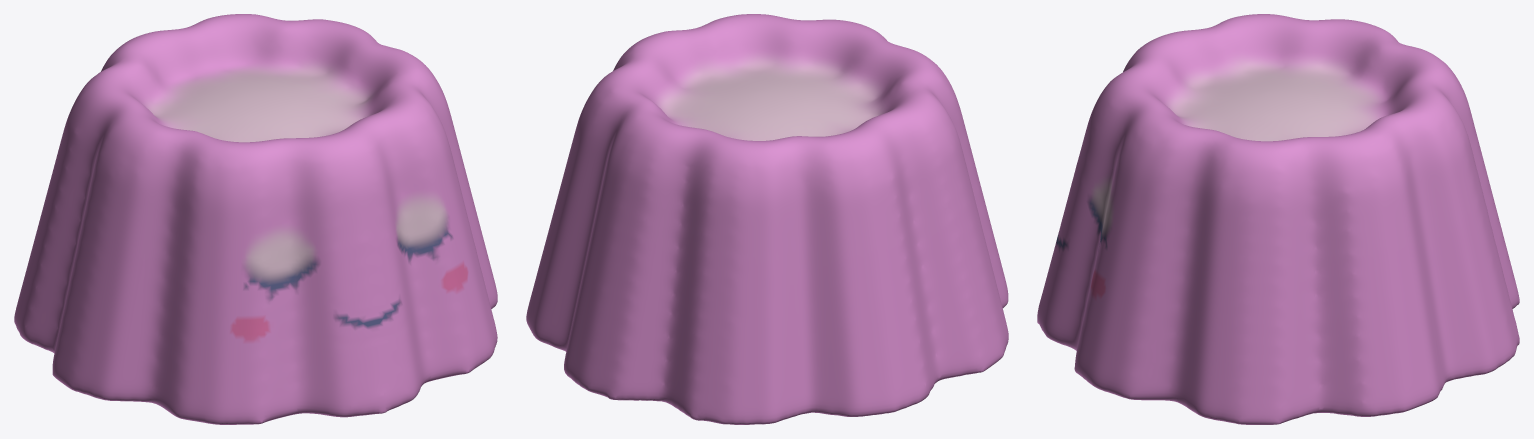
Rendered from Jelly.glb.
3 renders of one model, left to right at view 1: azimuth 30°, elevation 25°; view 2: azimuth 150°, elevation 25°; view 3: azimuth 270°, elevation 25°, orthographic.
Visible parts, largest first — view 1: Jelly; view 2: Jelly; view 3: Jelly.
Part boxes in pixels (x1,y1,x2,y2): Jelly: (14,14,497,424); Jelly: (526,14,1008,424); Jelly: (1037,14,1519,424).
Bounding box in the file's own units: 0.1376 × 0.0768 × 0.1368.
